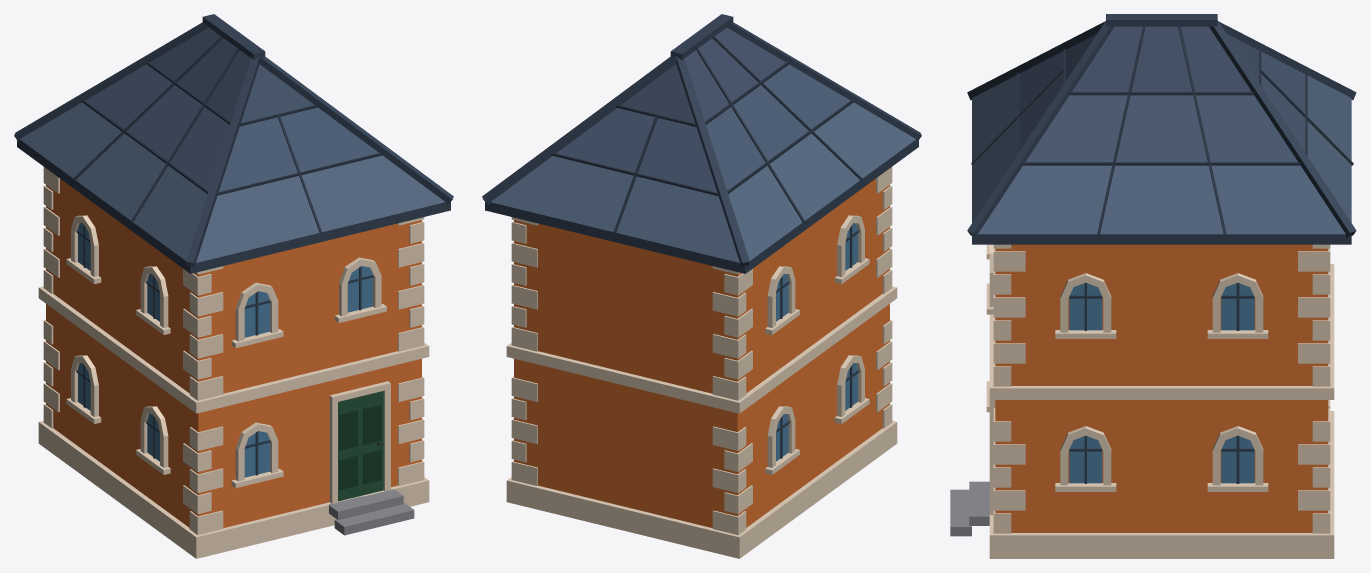
File: residential house 1.fbx
The picture shows the model from 3 angles, left to right: view 1: azimuth 30°, elevation 25°; view 2: azimuth 150°, elevation 25°; view 3: azimuth 270°, elevation 25°; orthographic projection. The views are drawn at different scales.
Visible parts, largest first — view 1: House_Body; view 2: House_Body; view 3: House_Body.
Boxes of the visible parts, box(x1,y1,x2,y2) form: House_Body: box(14, 14, 453, 558); House_Body: box(482, 14, 921, 558); House_Body: box(950, 14, 1356, 558).
Size of the model in its own units: 467 by 731 by 561.
